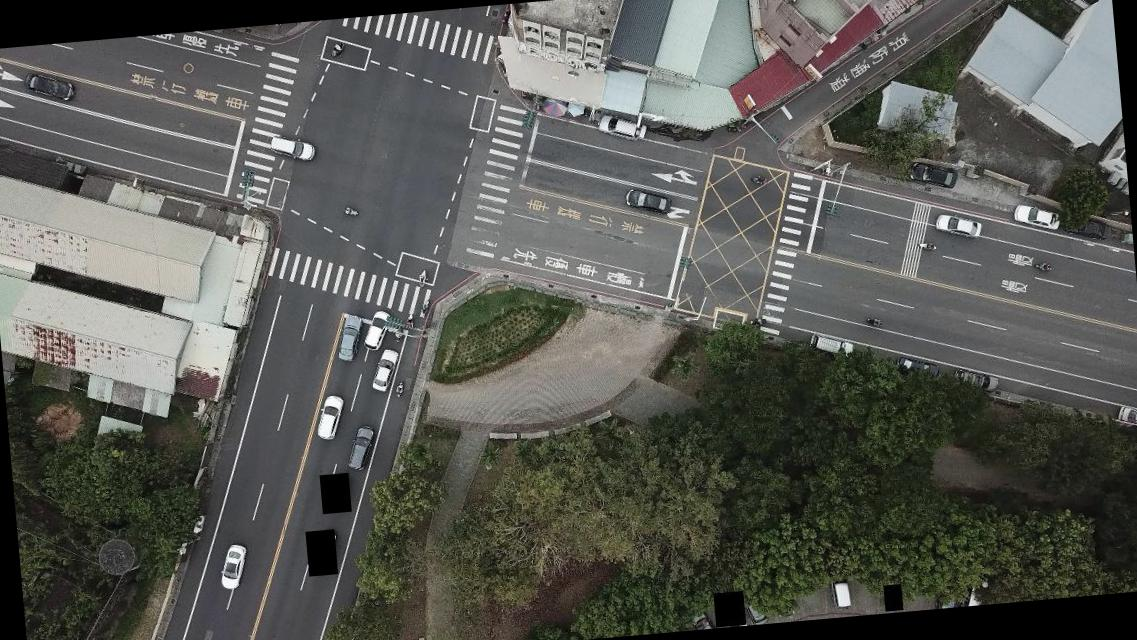vehicle: (20, 70, 76, 106), (596, 108, 649, 146), (906, 158, 960, 192), (934, 208, 986, 242), (1011, 200, 1062, 234), (623, 184, 673, 218), (216, 543, 250, 592), (334, 312, 365, 364), (806, 328, 856, 360), (344, 424, 377, 472), (1062, 210, 1110, 243), (268, 132, 317, 164), (369, 348, 403, 394), (312, 395, 346, 441), (361, 307, 392, 354), (953, 366, 1001, 394), (895, 354, 940, 383), (743, 592, 770, 624), (830, 578, 853, 610), (686, 608, 714, 630), (1117, 403, 1136, 430)
